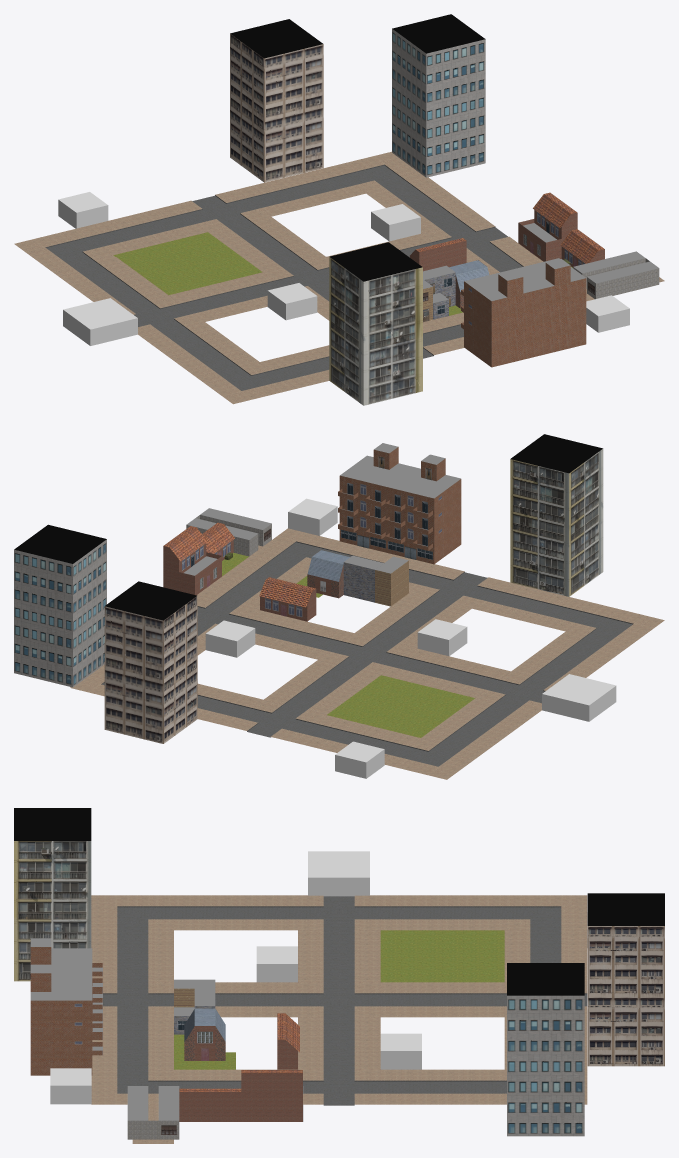
File: cityBlockout.glb
The picture shows the model from 3 angles, top to bottom: view 1: azimuth 30°, elevation 25°; view 2: azimuth 150°, elevation 25°; view 3: azimuth 270°, elevation 25°; orthographic projection. The views are drawn at different scales.
Parts seen in each view (by area): view 1: street.083, building5.001, building2.001, building4.001, house7.002, house7.001, house8.001, trainStation, house5.002, comicStore, supermarket, pharmacy (+6 smaller); view 2: street.083, building4.001, building5.001, building2.001, house7.002, house7.001, house8.001, trainStation, house6.001, house10.001, supermarket, comicStore (+7 smaller); view 3: street.083, building2.001, building4.001, building5.001, house7.001, house8.001, trainStation, house6.002, house7.002, house10.001, playerHouse, supermarket (+6 smaller).
Boxes of the visible parts, bbox=[...] form: street.083: bbox=[14, 151, 594, 404]; building5.001: bbox=[329, 242, 422, 405]; building2.001: bbox=[392, 14, 485, 177]; building4.001: bbox=[230, 19, 323, 182]; house7.002: bbox=[461, 269, 538, 367]; house7.001: bbox=[512, 258, 586, 355]; house8.001: bbox=[518, 192, 577, 261]; trainStation: bbox=[63, 298, 137, 345]; house5.002: bbox=[587, 261, 659, 299]; comicStore: bbox=[267, 283, 317, 320]; supermarket: bbox=[371, 204, 420, 241]; pharmacy: bbox=[58, 192, 108, 228]; street.083: bbox=[70, 528, 664, 779]; building4.001: bbox=[104, 581, 197, 743]; building5.001: bbox=[510, 434, 603, 596]; building2.001: bbox=[14, 524, 106, 687]; house7.002: bbox=[385, 454, 461, 564]; house7.001: bbox=[338, 443, 413, 552]; house8.001: bbox=[163, 526, 221, 595]; trainStation: bbox=[542, 674, 616, 721]; house6.001: bbox=[259, 577, 316, 621]; house10.001: bbox=[307, 550, 349, 598]; supermarket: bbox=[205, 620, 255, 657]; comicStore: bbox=[417, 619, 467, 656]; street.083: bbox=[91, 895, 587, 1105]; building2.001: bbox=[507, 963, 584, 1136]; building4.001: bbox=[587, 893, 664, 1066]; building5.001: bbox=[14, 808, 91, 981]; house7.001: bbox=[30, 964, 102, 1075]; house8.001: bbox=[241, 1070, 303, 1121]; trainStation: bbox=[308, 851, 369, 896]; house6.002: bbox=[179, 1088, 241, 1121]; house7.002: bbox=[30, 938, 102, 1027]; house10.001: bbox=[184, 1008, 225, 1060]; playerHouse: bbox=[50, 1068, 91, 1104]; supermarket: bbox=[380, 1033, 421, 1069].
Size of the model in its own units: 126 by 30.21 by 126.
Materials: 29 (27 with a texture image).
